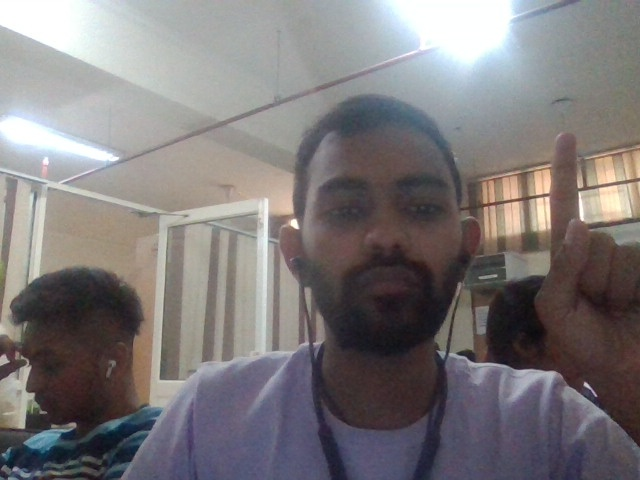Present: (534, 132, 640, 369)
